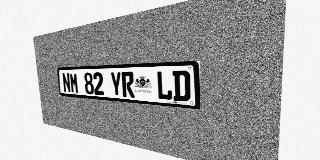2: (93, 72, 104, 95)
8: (84, 72, 94, 95)
D: (172, 70, 190, 102)
L: (156, 71, 173, 101)
M: (69, 73, 79, 93)
N: (62, 73, 71, 93)
R: (121, 71, 135, 98)
Y: (110, 72, 122, 97)
